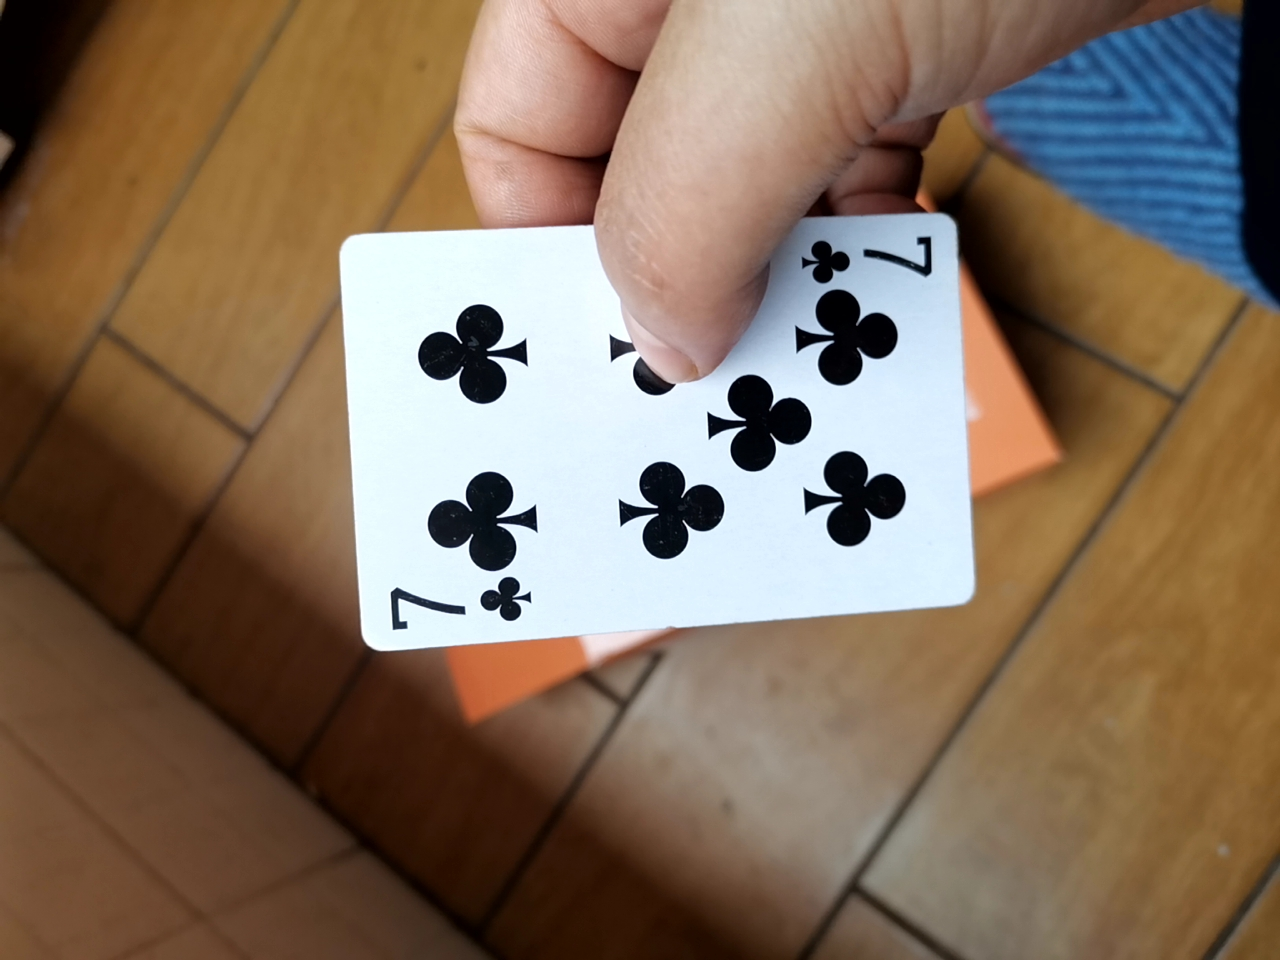mh 7: (309, 214, 980, 670)
